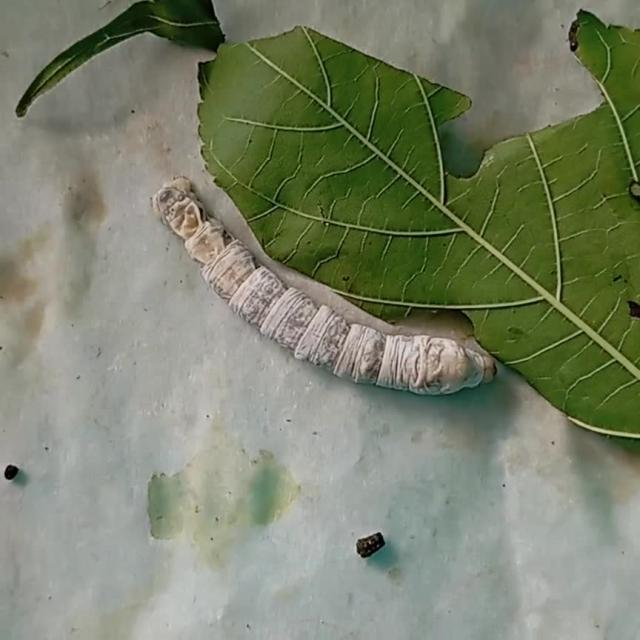Grasserie: (144, 160, 505, 418)
